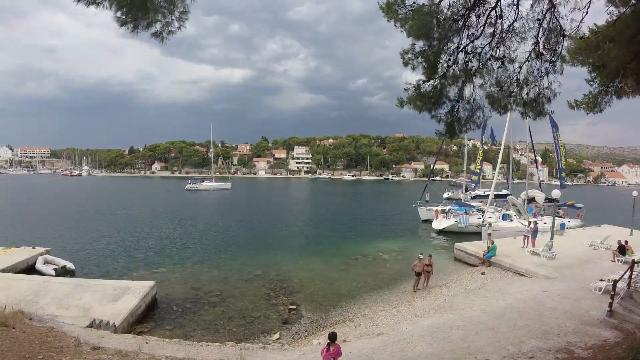Sailboat: (182, 172, 236, 194)
